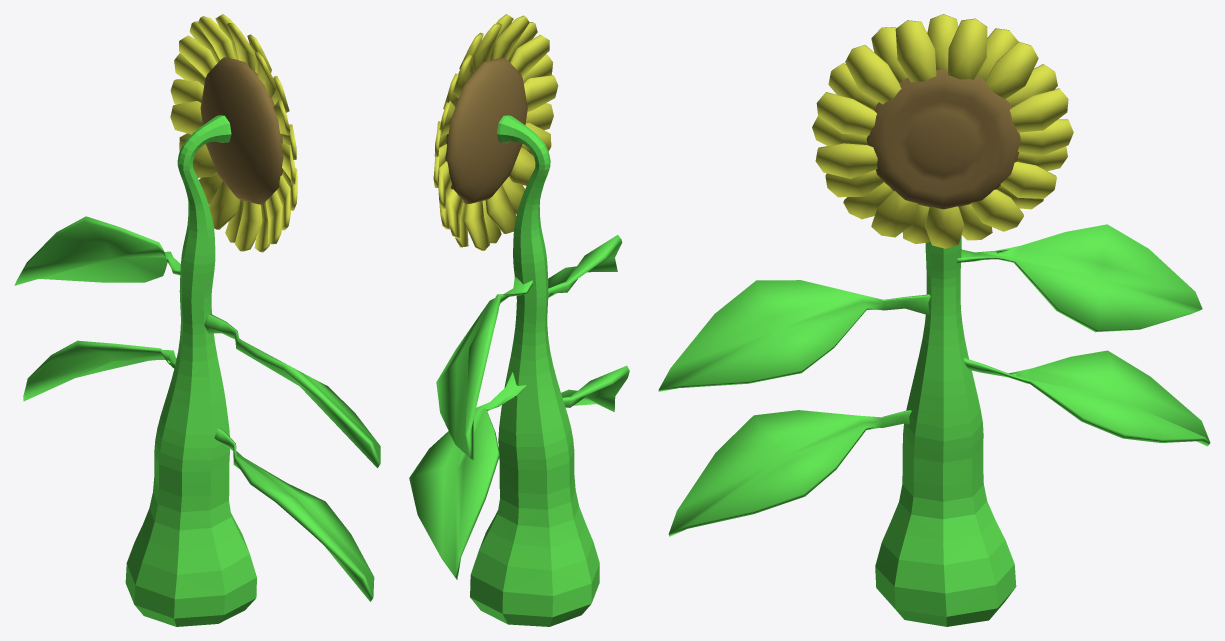
File: bunga matahari 1.fbx
3 renders of one model, left to right at view 1: azimuth 30°, elevation 25°; view 2: azimuth 150°, elevation 25°; view 3: azimuth 270°, elevation 25°, orthographic. The views are drawn at different scales.
Parts seen in each view (by area): view 1: Plane.024, Sphere, Plane.025, Plane.028, Plane.026, Plane.027, Plane.020, Plane.021, Plane.023, Plane.002, Plane.001, Plane.003 (+5 smaller); view 2: Plane.024, Plane.026, Sphere, Plane.025, Plane.027, Plane.028, Plane.020, Plane.006, Plane.005, Plane.021, Plane.007, Plane.016 (+11 smaller); view 3: Plane.024, Sphere, Plane.027, Plane.028, Plane.025, Plane.026, Plane.012, Plane.019, Plane.013, Plane.014, Plane.018, Plane.017 (+15 smaller).
Part boxes in pixels (bbox=[...]): Plane.024: bbox=[125, 115, 256, 626]; Sphere: bbox=[200, 57, 283, 204]; Plane.025: bbox=[14, 216, 180, 285]; Plane.028: bbox=[214, 428, 374, 601]; Plane.026: bbox=[23, 340, 176, 401]; Plane.027: bbox=[204, 314, 380, 467]; Plane.020: bbox=[234, 201, 262, 251]; Plane.021: bbox=[209, 181, 240, 229]; Plane.023: bbox=[170, 101, 202, 134]; Plane.002: bbox=[179, 35, 216, 77]; Plane.001: bbox=[197, 16, 235, 59]; Plane.003: bbox=[170, 79, 203, 104]; Plane.024: bbox=[470, 115, 599, 626]; Plane.026: bbox=[409, 372, 526, 579]; Sphere: bbox=[445, 57, 527, 204]; Plane.025: bbox=[436, 276, 532, 459]; Plane.027: bbox=[548, 235, 622, 297]; Plane.028: bbox=[561, 365, 629, 411]; Plane.020: bbox=[485, 185, 516, 233]; Plane.006: bbox=[510, 34, 549, 77]; Plane.005: bbox=[524, 75, 558, 111]; Plane.021: bbox=[464, 201, 489, 250]; Plane.007: bbox=[492, 15, 529, 59]; Plane.016: bbox=[509, 147, 535, 185]; Plane.024: bbox=[875, 235, 1016, 626]; Sphere: bbox=[866, 69, 1020, 209]; Plane.027: bbox=[658, 280, 930, 391]; Plane.028: bbox=[668, 410, 911, 536]; Plane.025: bbox=[957, 224, 1202, 332]; Plane.026: bbox=[964, 350, 1210, 446]; Plane.012: bbox=[895, 20, 936, 82]; Plane.019: bbox=[845, 45, 901, 104]; Plane.013: bbox=[948, 18, 987, 79]; Plane.014: bbox=[984, 42, 1038, 99]; Plane.018: bbox=[816, 92, 876, 135]; Plane.017: bbox=[815, 143, 877, 178].
Bounding box in the file's own units: 196 × 843 × 681.
